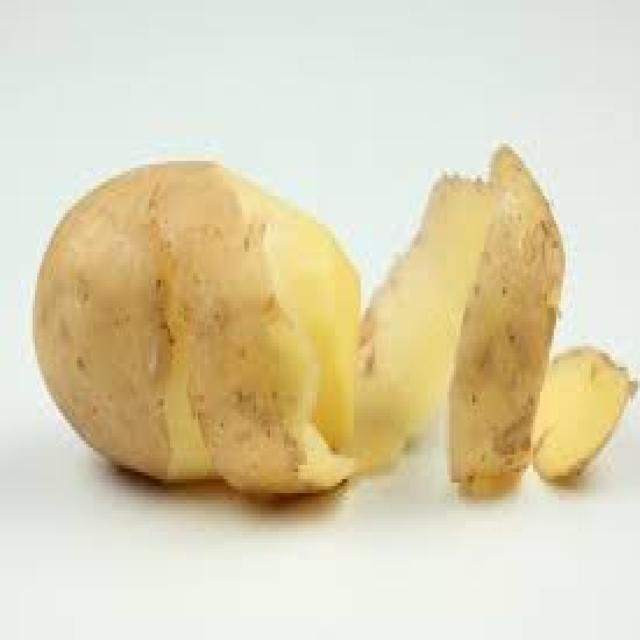Organik: (33, 154, 365, 520), (331, 140, 636, 497)
